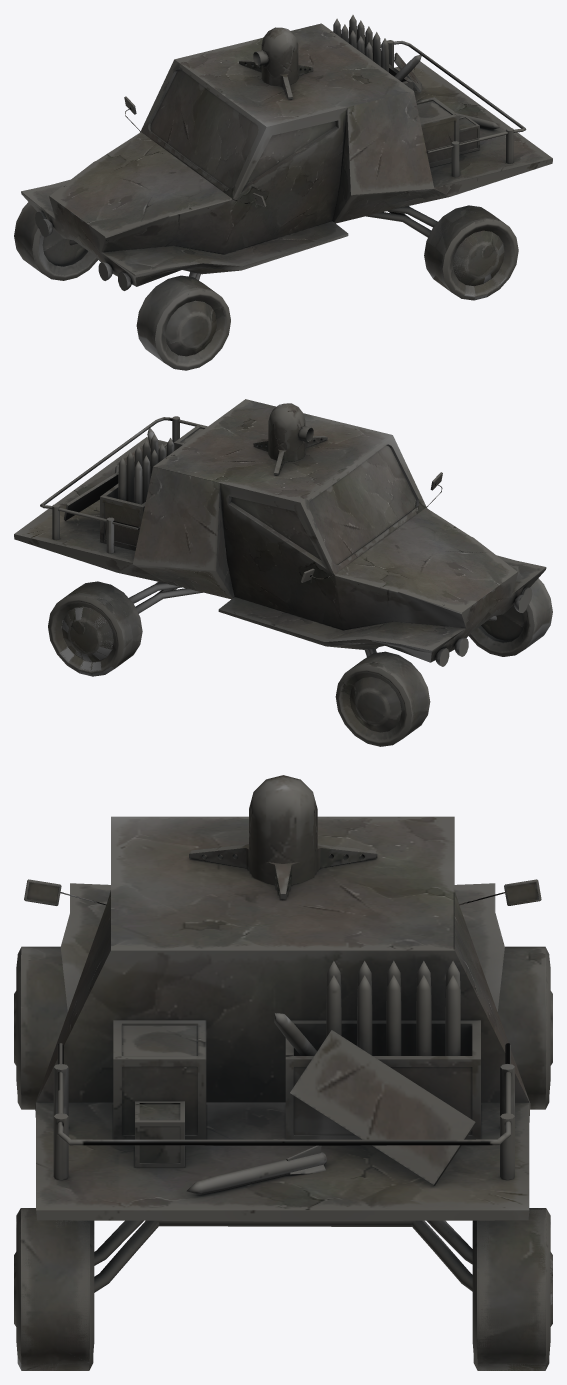
The model's file is ConnectedOpsUGV.glb.
3 views of the same model, one above another, from view 1: azimuth 30°, elevation 25°; view 2: azimuth 150°, elevation 25°; view 3: azimuth 270°, elevation 25° (orthographic). The views are drawn at different scales.
Visible parts, largest first — view 1: Car Body 2; view 2: Car Body 2; view 3: Car Body 2.
Part boxes in pixels (bbox=[...]): Car Body 2: bbox=[14, 15, 552, 370]; Car Body 2: bbox=[14, 399, 552, 746]; Car Body 2: bbox=[14, 775, 552, 1370].
Bounding box in the file's own units: 16.09 × 9.32 × 9.77.
Materials: 1 (1 with a texture image).
